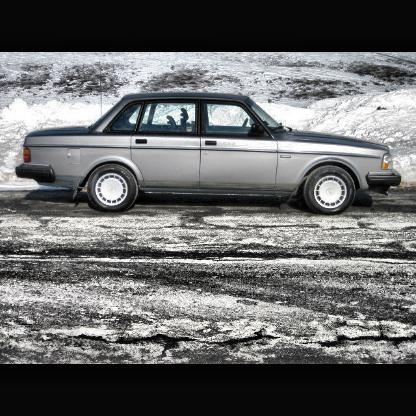Volvo 240 Sedan 1993: (16, 93, 405, 215)
